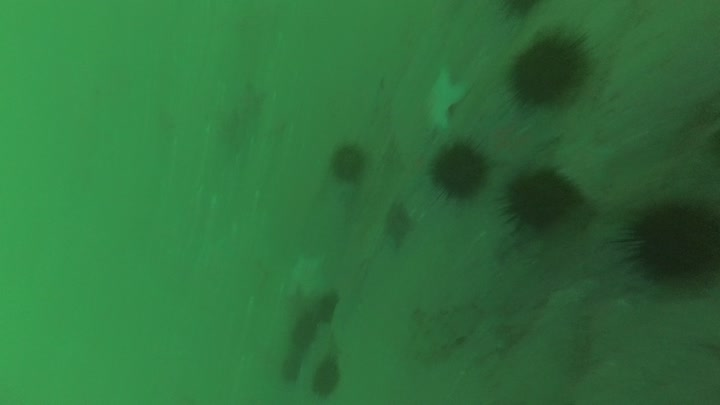echinus: (609, 195, 720, 291), (507, 31, 595, 114), (499, 167, 585, 236), (429, 136, 491, 205), (329, 143, 368, 182), (312, 357, 345, 396), (290, 312, 322, 345), (498, 1, 543, 23), (282, 350, 306, 383), (317, 291, 342, 321)
starfish: (422, 69, 472, 130), (287, 254, 332, 296), (382, 204, 412, 247)
